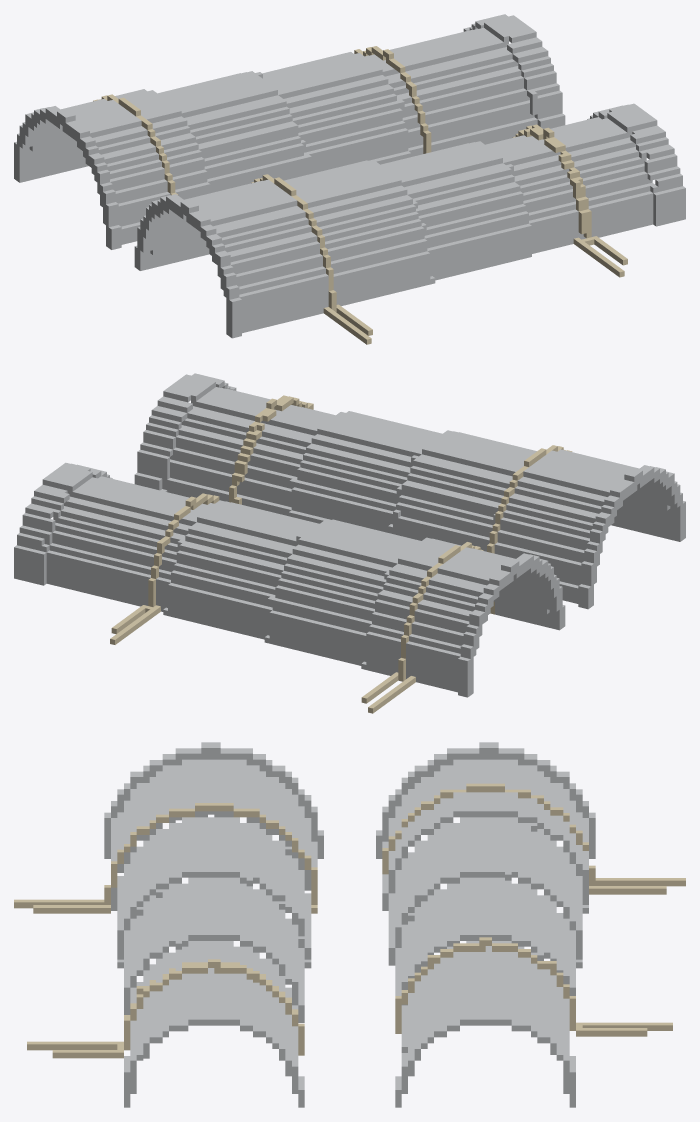
Rendered from greaves_sheet_metal.glb.
The picture shows the model from 3 angles, top to bottom: view 1: azimuth 30°, elevation 25°; view 2: azimuth 150°, elevation 25°; view 3: azimuth 270°, elevation 25°; orthographic projection. The views are drawn at different scales.
Parts seen in each view (by area): view 1: greaves_sheet_metal:compound; view 2: greaves_sheet_metal:compound; view 3: greaves_sheet_metal:compound.
Part boxes in pixels (left/top/right/bottom): greaves_sheet_metal:compound: left=14, top=14, right=685, bottom=344; greaves_sheet_metal:compound: left=14, top=373, right=685, bottom=713; greaves_sheet_metal:compound: left=14, top=742, right=685, bottom=1107.
Bounding box in the file's own units: 0.372 × 0.076 × 0.416.
